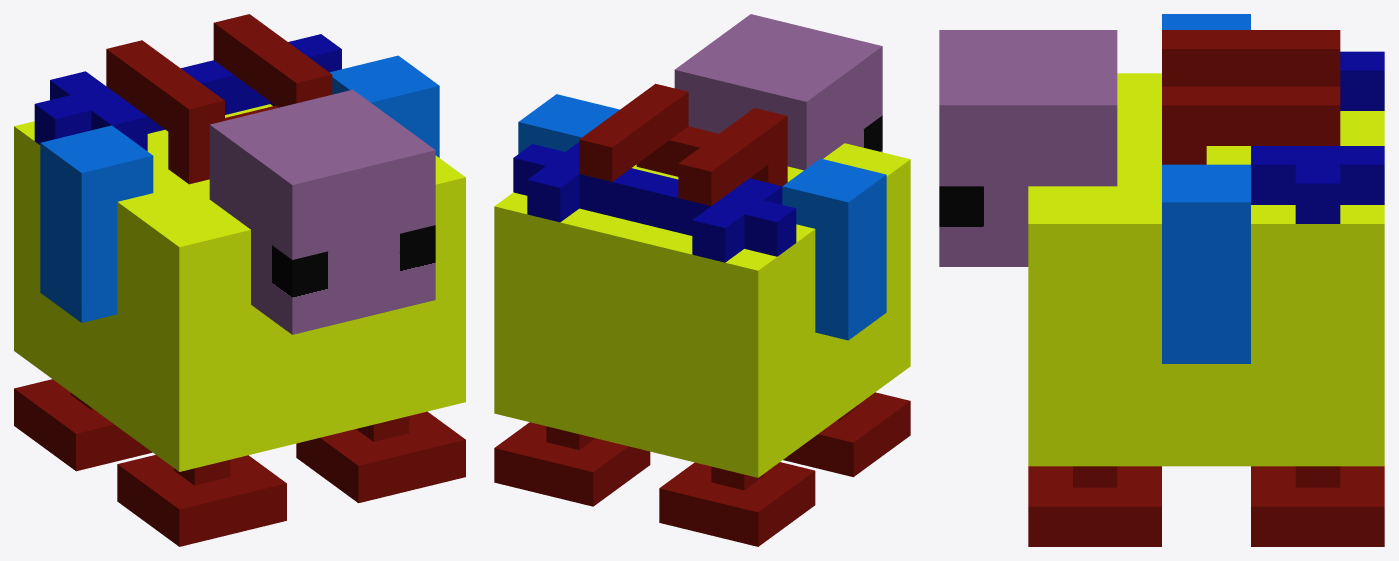
File: Garas.fbx
3 renders of one model, left to right at view 1: azimuth 30°, elevation 25°; view 2: azimuth 150°, elevation 25°; view 3: azimuth 270°, elevation 25°, orthographic. The views are drawn at different scales.
Parts seen in each view (by area): view 1: Garas; view 2: Garas; view 3: Garas.
Boxes of the visible parts, left/top/right/bottom form: Garas: left=14, top=14, right=465, bottom=546; Garas: left=494, top=14, right=910, bottom=546; Garas: left=939, top=14, right=1384, bottom=546.
Size of the model in its own units: 10 by 10 by 10.
Materials: 1 (1 with a texture image).
